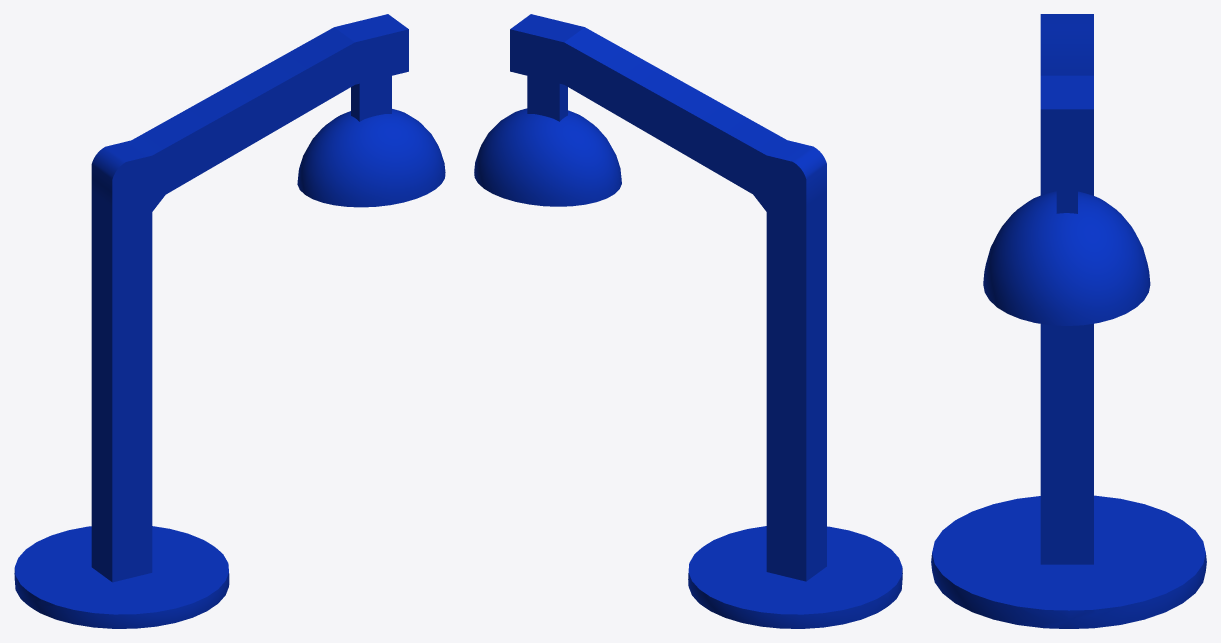
Rendered from Lamp.FBX.
The picture shows the model from 3 angles, left to right: view 1: azimuth 30°, elevation 25°; view 2: azimuth 150°, elevation 25°; view 3: azimuth 270°, elevation 25°; orthographic projection. The views are drawn at different scales.
Visible parts, largest first — view 1: Lamp_Arm, Lamp_Stand_Base, Lamp_Cover; view 2: Lamp_Arm, Lamp_Stand_Base, Lamp_Cover; view 3: Lamp_Stand_Base, Lamp_Arm, Lamp_Cover.
Boxes of the visible parts, x1,y1,x2,y2 form: Lamp_Arm: (91,14,408,582); Lamp_Stand_Base: (14,526,229,628); Lamp_Cover: (297,109,445,207); Lamp_Arm: (510,14,826,581); Lamp_Stand_Base: (688,526,902,628); Lamp_Cover: (474,108,621,206); Lamp_Stand_Base: (931,495,1206,628); Lamp_Arm: (1040,14,1093,564); Lamp_Cover: (983,191,1150,325).
Bounding box in the file's own units: 30.24 × 35.03 × 13.81.
